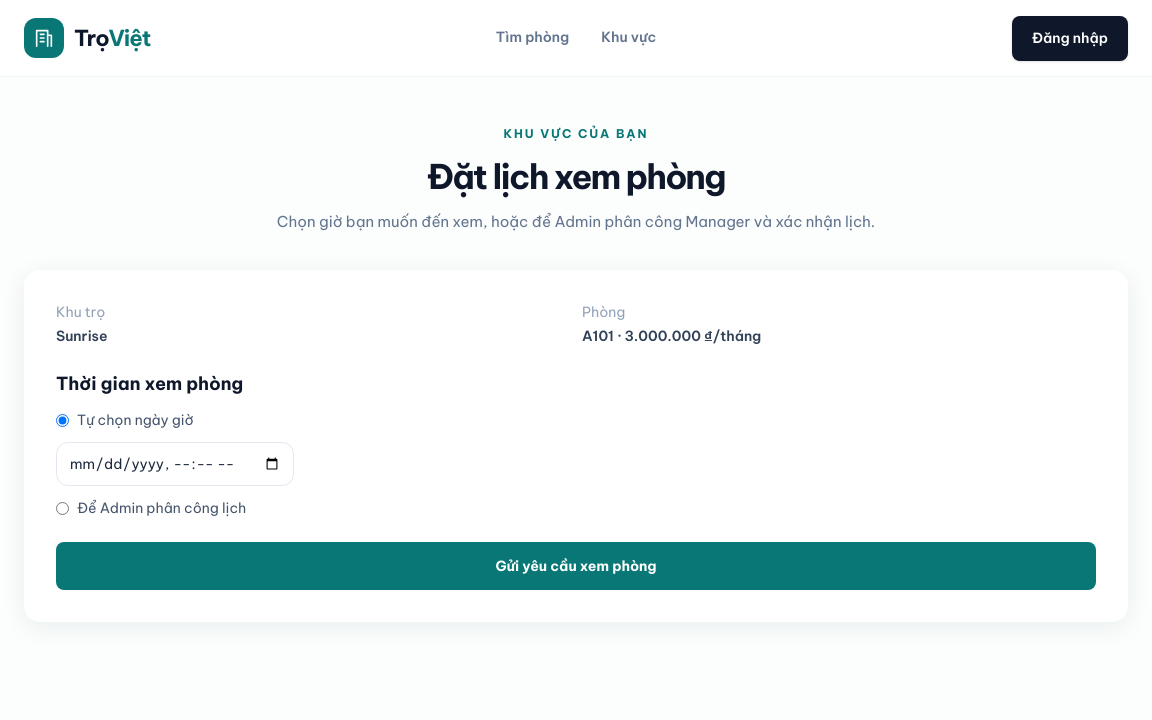
Test: ViewingRequestPage › lets the owner decide the time and explains a conflict
The image size is (1152, 720).
Click the radio button labelled "Để Admin phân công lịch" at (62, 508), box [56,502,69,514]
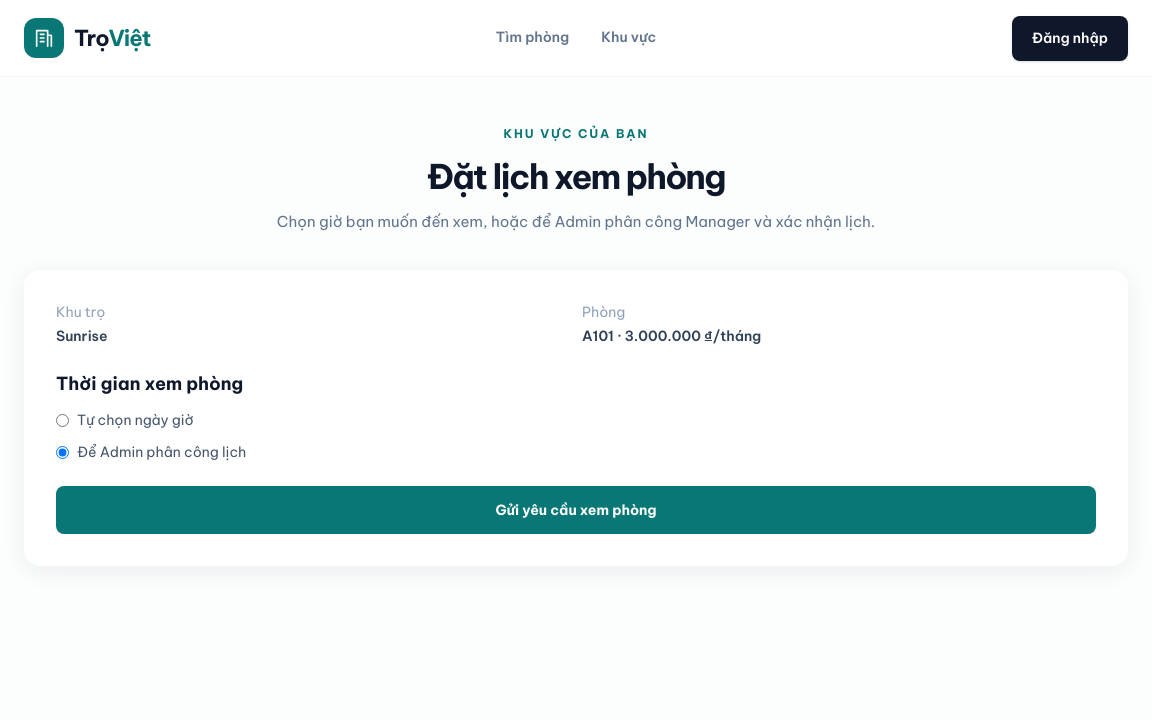
Click the button "Gửi yêu cầu xem phòng" at (576, 510), box [56,486,1096,534]
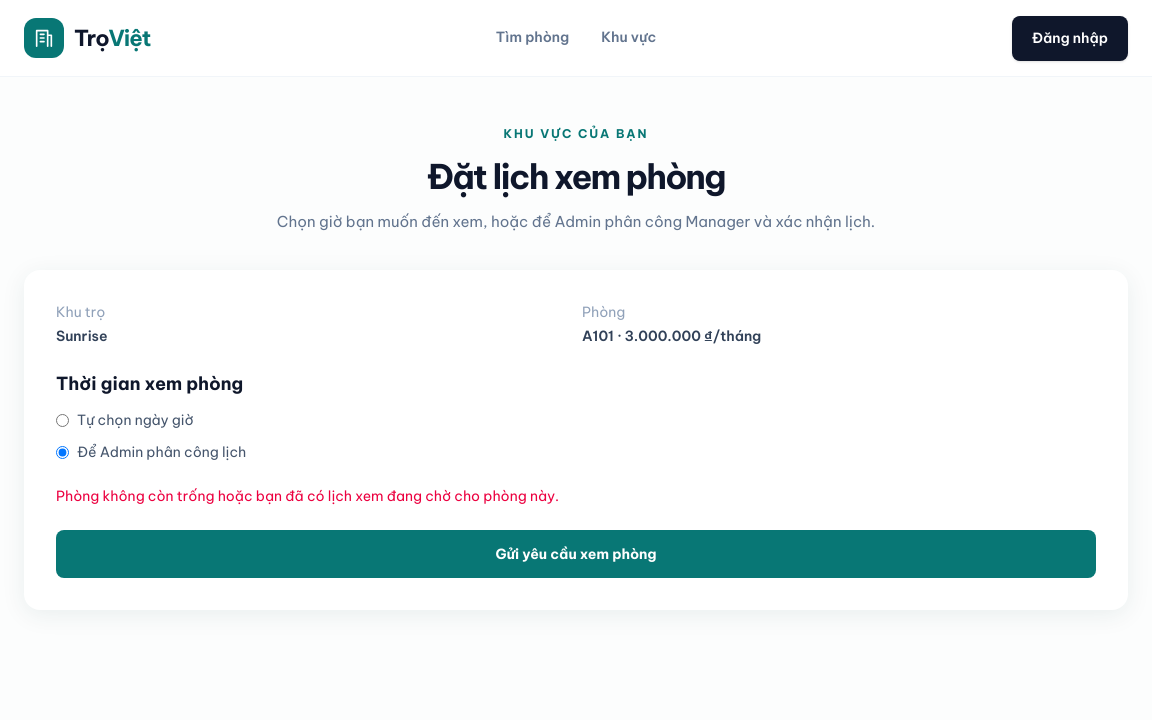
Result: the message reads "Phòng không còn trống hoặc bạn đã có lịch xem đang chờ cho phòng này." at [56,487,559,505]
